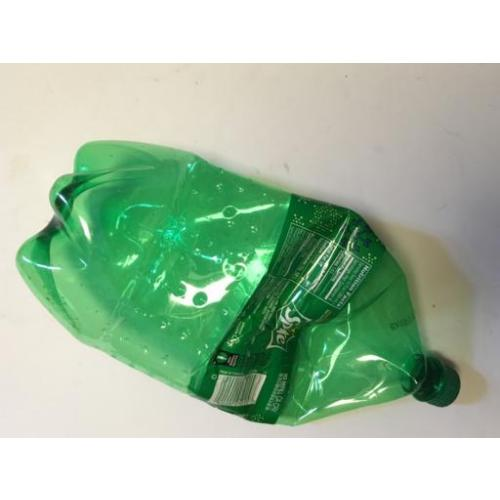plastic: (17, 138, 461, 426)
